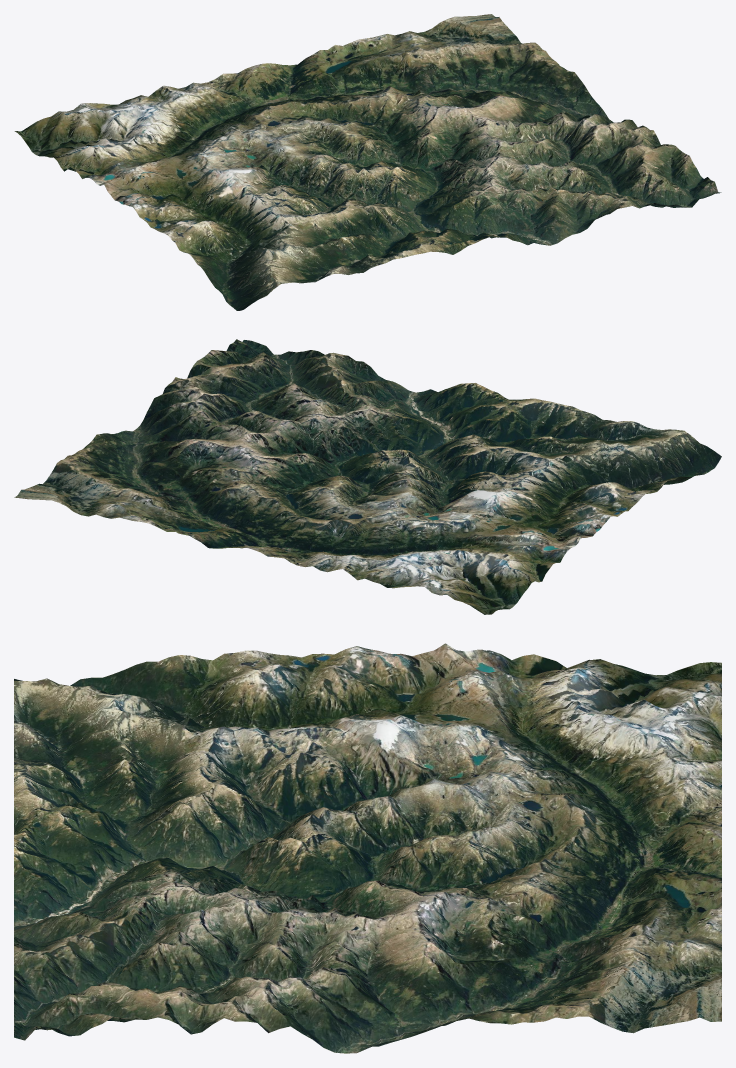
The picture shows the model from 3 angles, top to bottom: view 1: azimuth 30°, elevation 25°; view 2: azimuth 150°, elevation 25°; view 3: azimuth 270°, elevation 25°; orthographic projection. The views are drawn at different scales.
Visible parts, largest first — view 1: EXPORT_GOOGLE_SAT_WM; view 2: EXPORT_GOOGLE_SAT_WM; view 3: EXPORT_GOOGLE_SAT_WM.
Part boxes in pixels (bbox=[...]): EXPORT_GOOGLE_SAT_WM: bbox=[14, 14, 721, 310]; EXPORT_GOOGLE_SAT_WM: bbox=[14, 339, 721, 614]; EXPORT_GOOGLE_SAT_WM: bbox=[14, 643, 721, 1053].
Bounding box in the file's own units: 27693 × 1971 × 23077.
